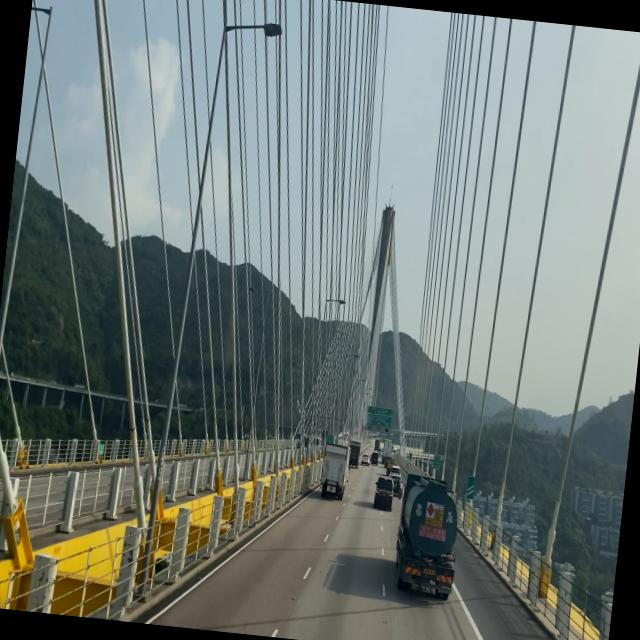Vehicle: (390, 471, 464, 598), (314, 440, 354, 502), (372, 469, 395, 514)
